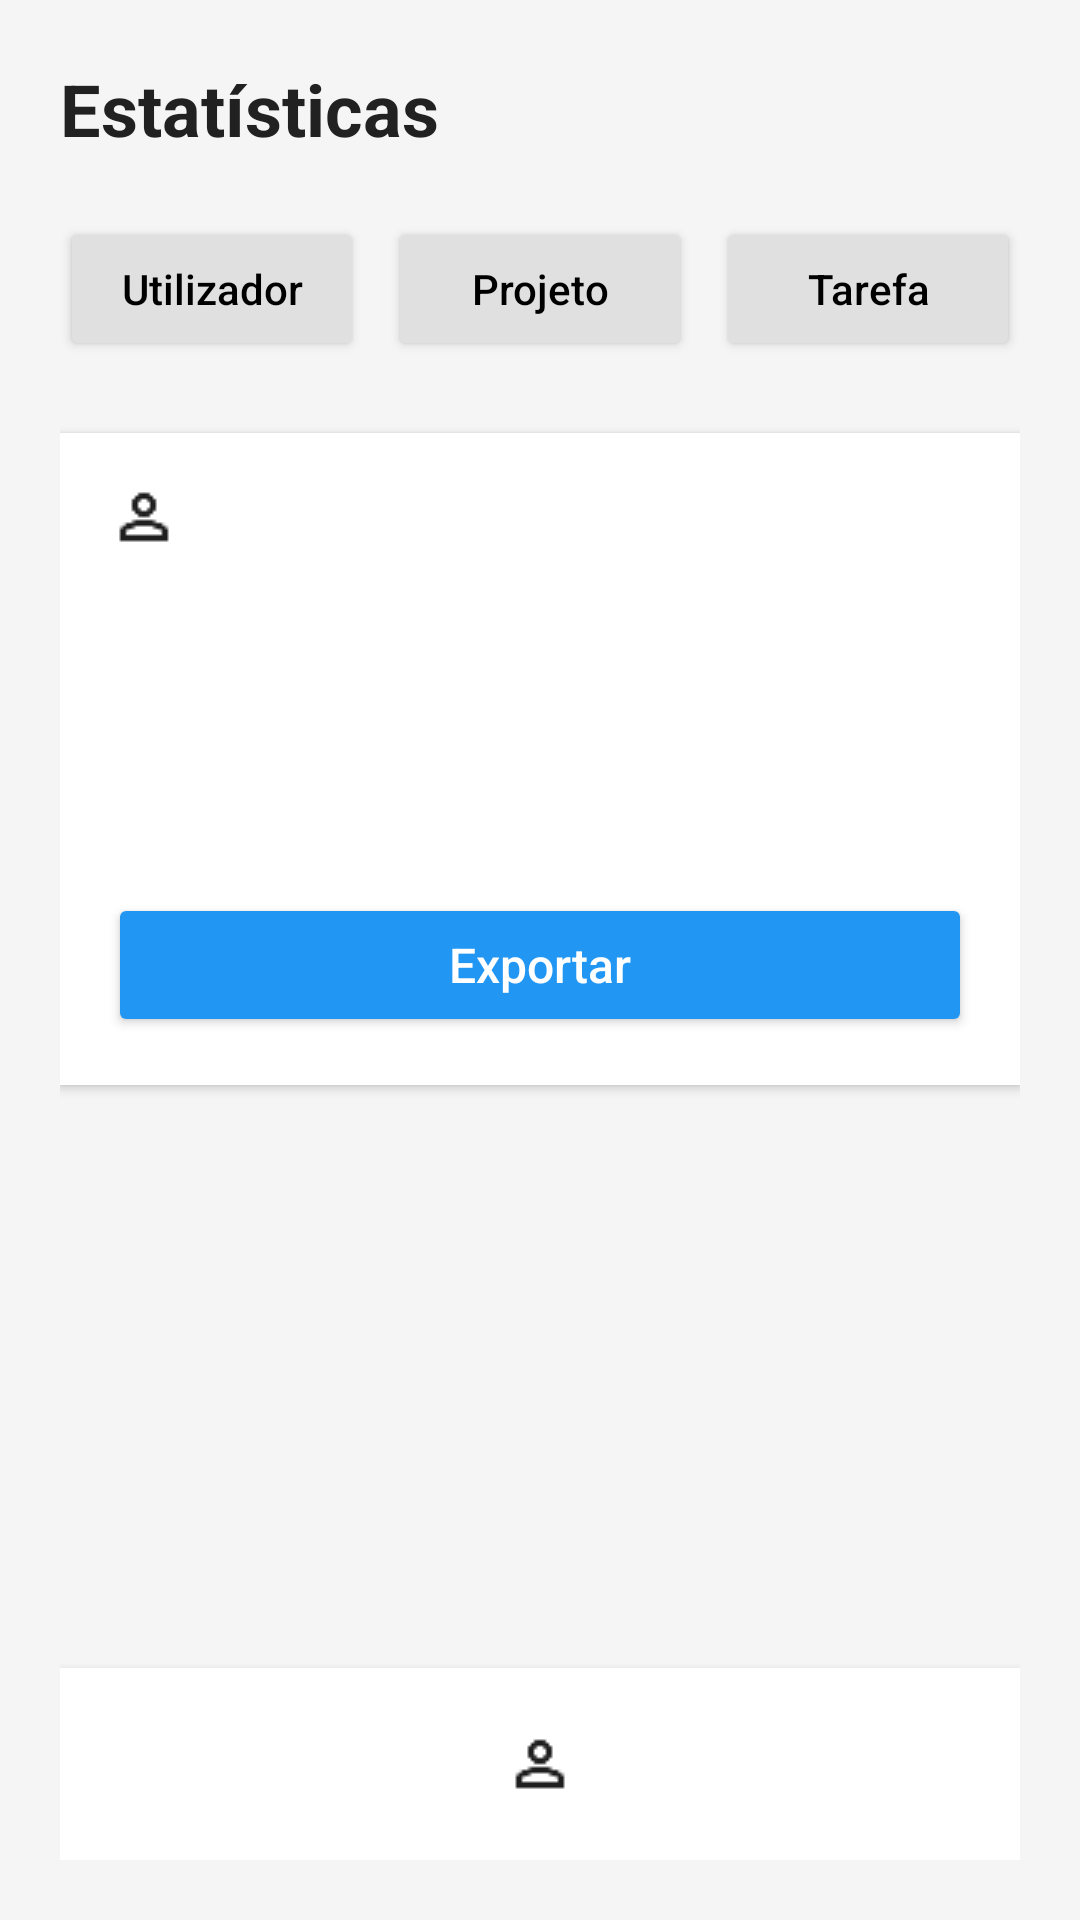

Icon bounding boxes for this 1080px×1920px phone screenshot, format {"x1": x1, "y1": y1, "x2": x2, "y2": y2}:
Perfil: {"x1": 515, "y1": 1739, "x2": 565, "y2": 1789}
